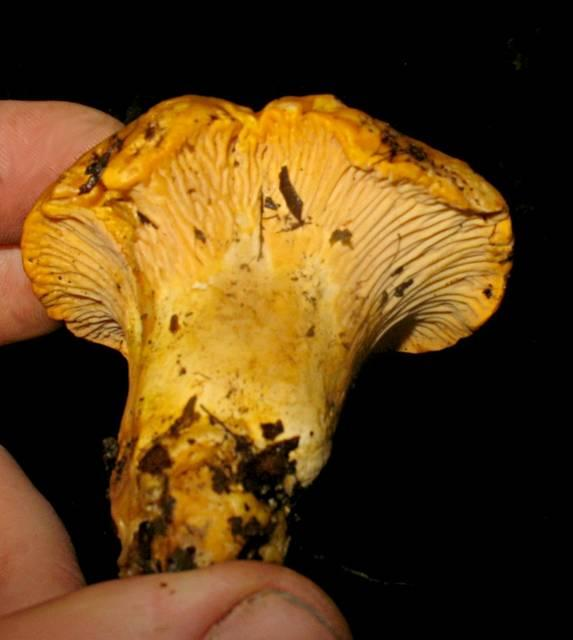Edible Mushroom: (19, 90, 515, 579)
